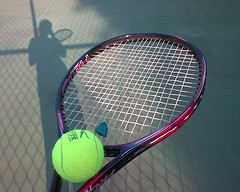tennis ball: (51, 129, 105, 182)
